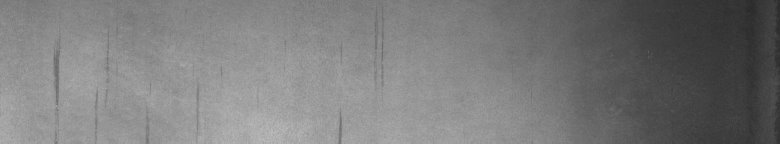ka: (339, 36, 383, 136)
